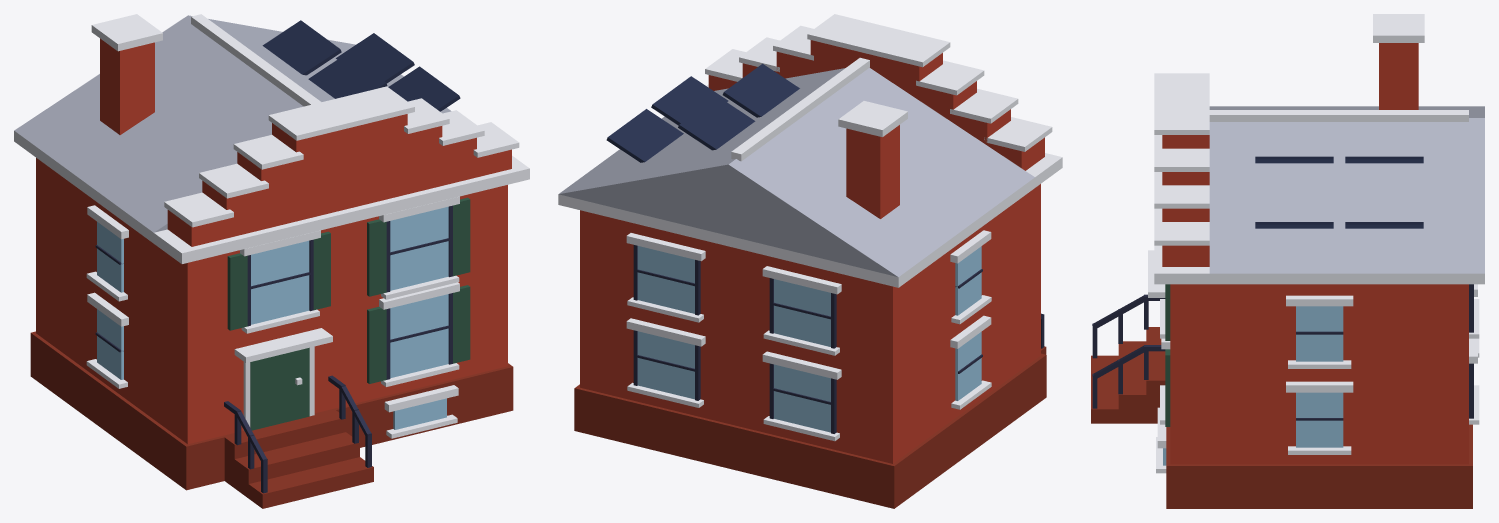
File: house-1x1-2f-dutch-a-solar.glb
3 renders of one model, left to right at view 1: azimuth 30°, elevation 25°; view 2: azimuth 150°, elevation 25°; view 3: azimuth 270°, elevation 25°, orthographic. The views are drawn at different scales.
Visible parts, largest first — view 1: house-1x1-2f-dutch-a-solar; view 2: house-1x1-2f-dutch-a-solar; view 3: house-1x1-2f-dutch-a-solar.
Boxes of the visible parts, <box> form: house-1x1-2f-dutch-a-solar: <box>14,14,529,508</box>; house-1x1-2f-dutch-a-solar: <box>558,14,1062,508</box>; house-1x1-2f-dutch-a-solar: <box>1091,14,1484,508</box>.
Bounding box in the file's own units: 1 × 0.99 × 0.995.
1 material, 1 textured.
